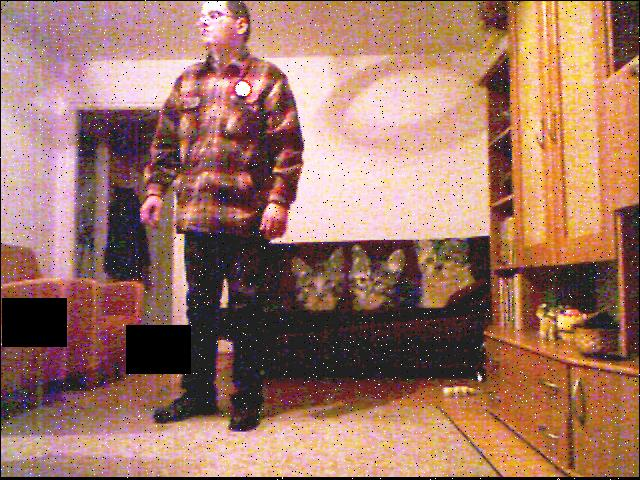standing: (130, 0, 311, 438)
